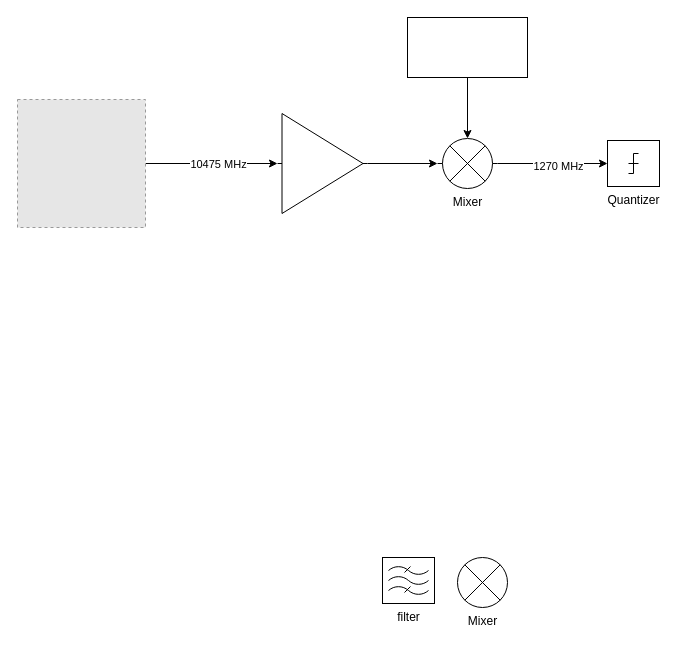
This 677x646 diagram has some shape labels left out. Grey dashed boxes stand in for pictures. Each missing label, with the box of its shape:
9205 MHz: (406, 16, 528, 78)
LNA: (276, 112, 368, 214)
